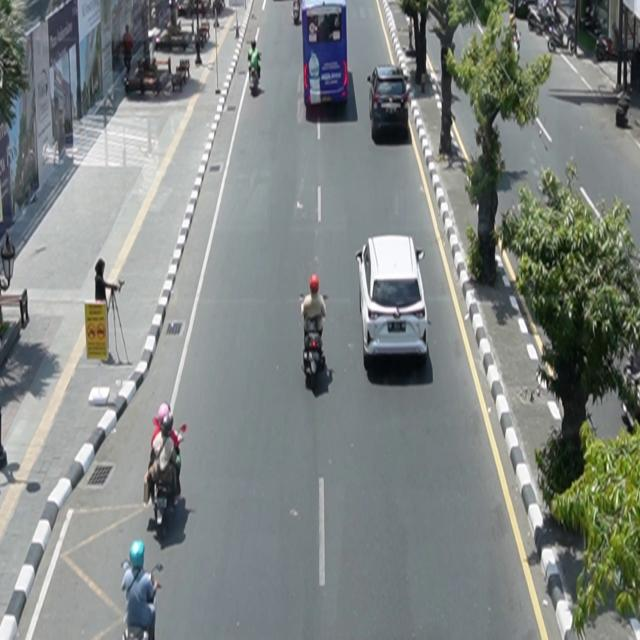bus: (302, 1, 349, 109)
car: (356, 234, 429, 369), (368, 66, 412, 142)
